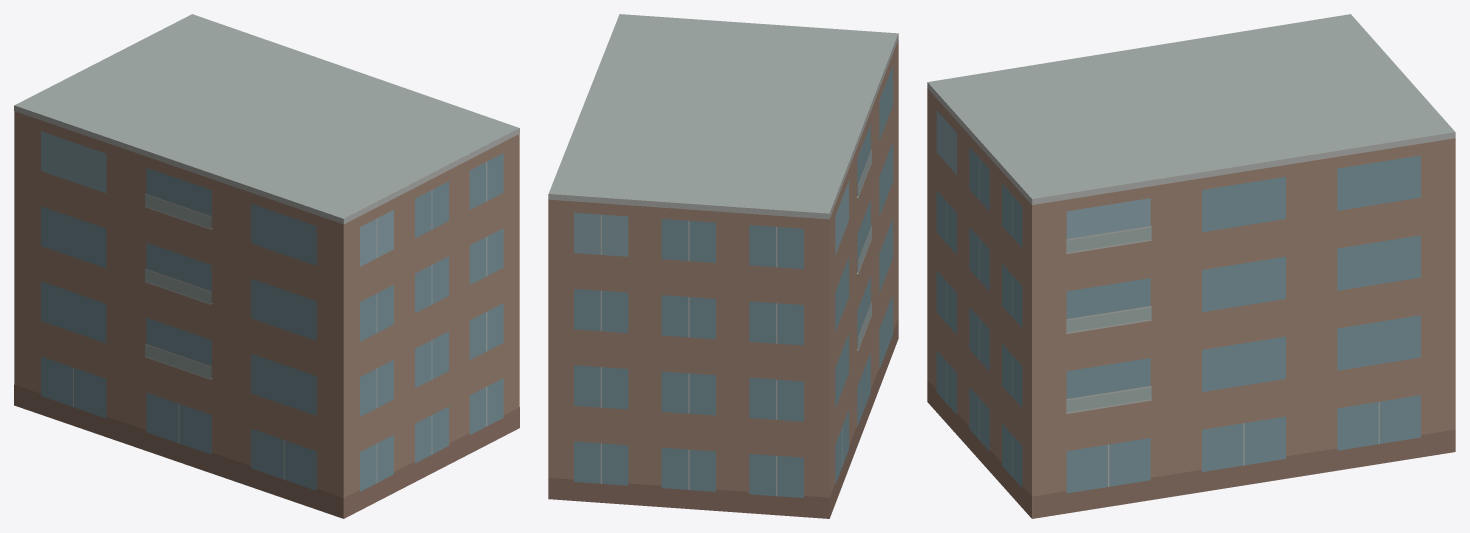
File: survey-upis-32852959.glb
The picture shows the model from 3 angles, left to right: view 1: azimuth 30°, elevation 25°; view 2: azimuth 150°, elevation 25°; view 3: azimuth 270°, elevation 25°; orthographic projection. The views are drawn at different scales.
Parts seen in each view (by area): view 1: survey-upis-32852959.tmp; view 2: survey-upis-32852959.tmp; view 3: survey-upis-32852959.tmp.
Boxes of the visible parts, x1,y1,x2,y2 form: survey-upis-32852959.tmp: [14, 14, 519, 518]; survey-upis-32852959.tmp: [548, 14, 898, 518]; survey-upis-32852959.tmp: [927, 14, 1455, 518].
Bounding box in the file's own units: 16.13 × 12.98 × 19.44.
